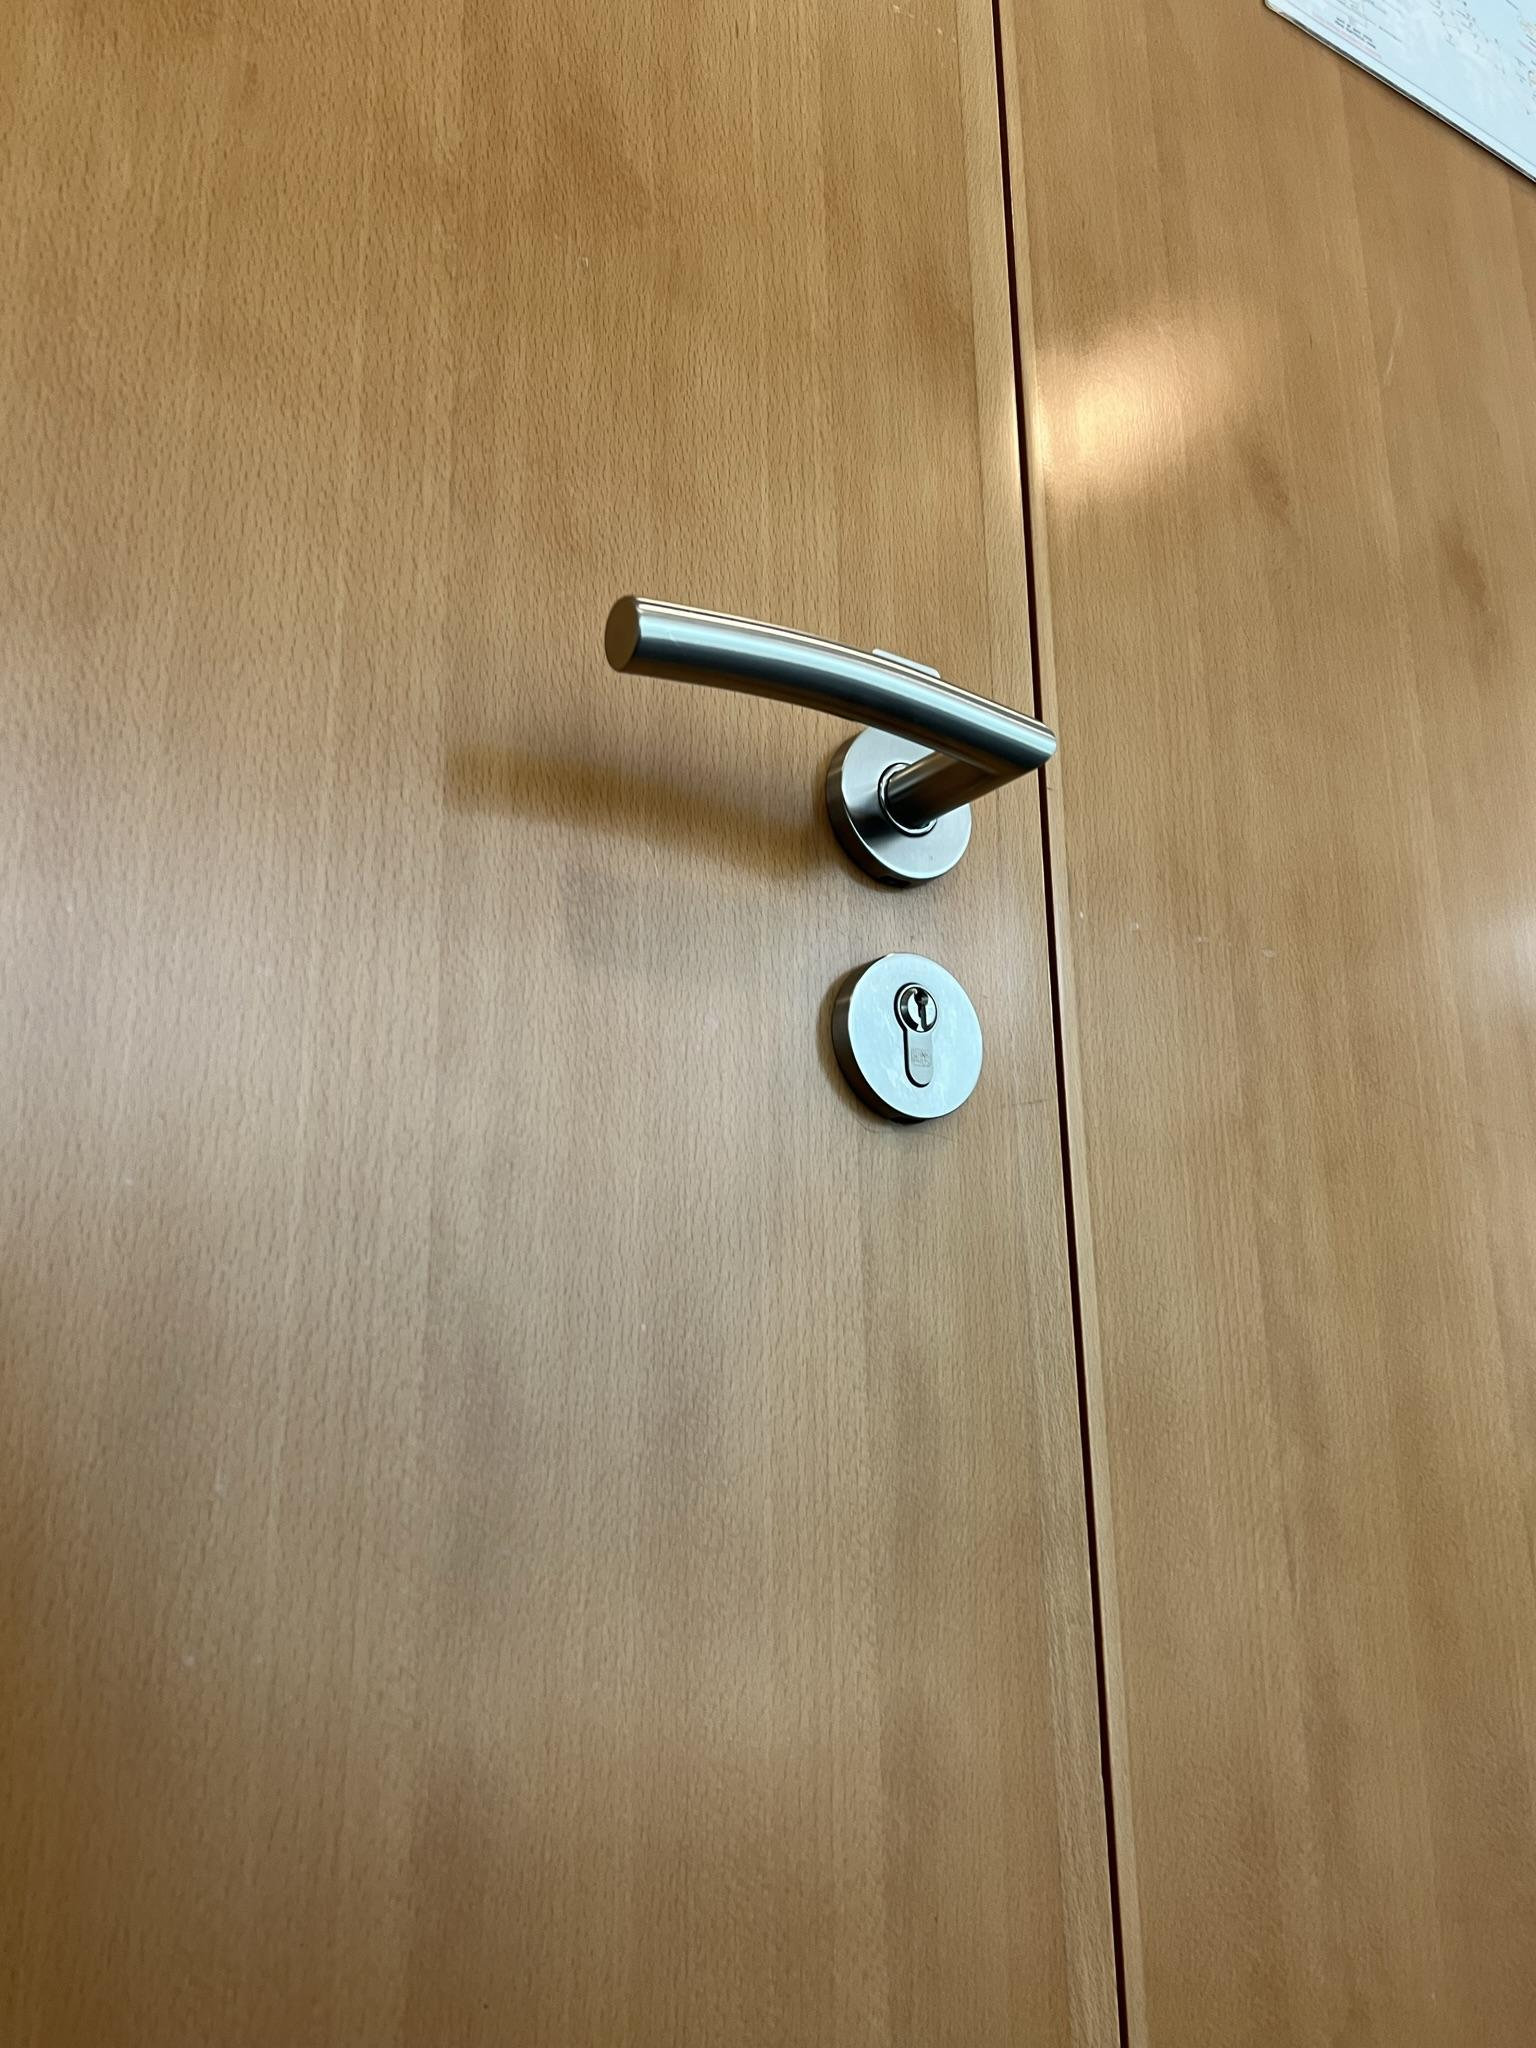door: (16, 6, 1013, 2022)
handle: (587, 552, 1073, 910)
